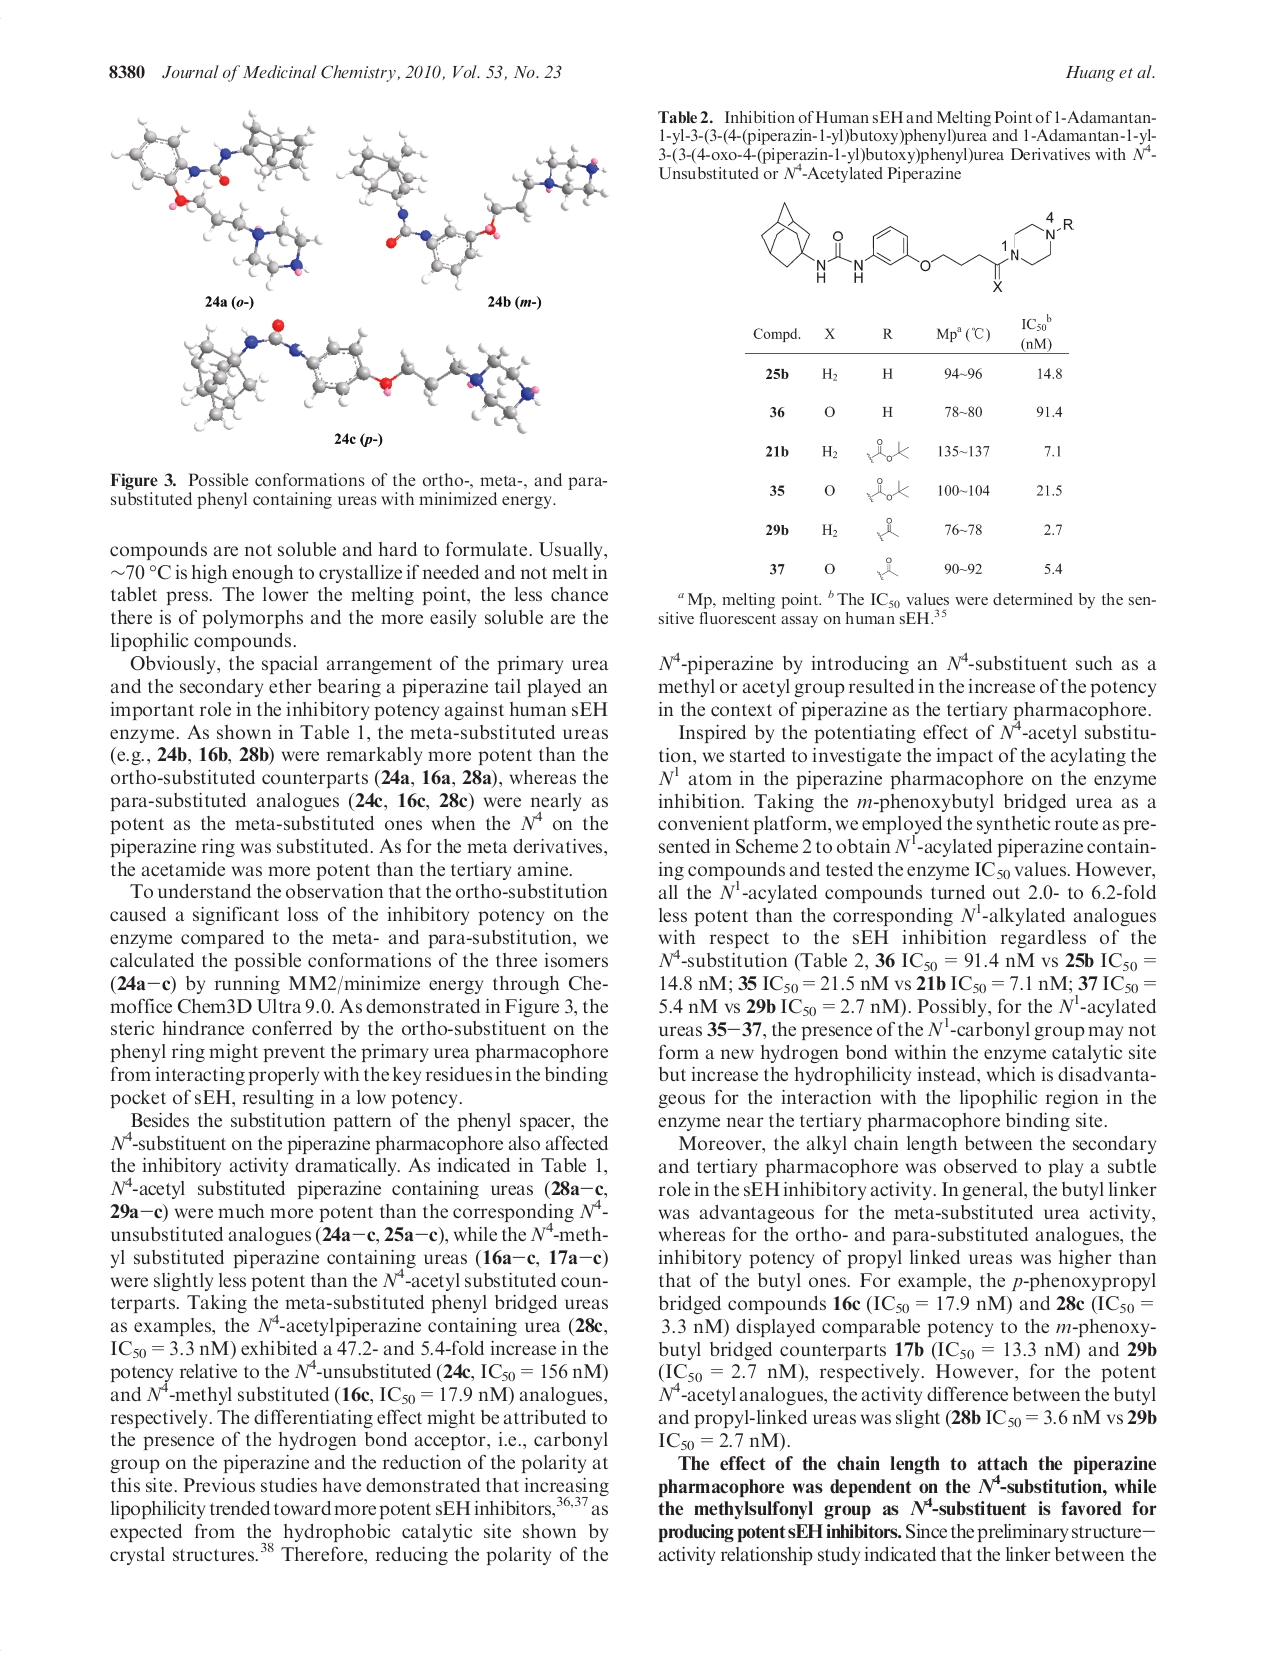exist_molecular: (759, 203, 1075, 297), (866, 438, 910, 465), (864, 476, 910, 503), (876, 555, 899, 581), (875, 519, 899, 543)
